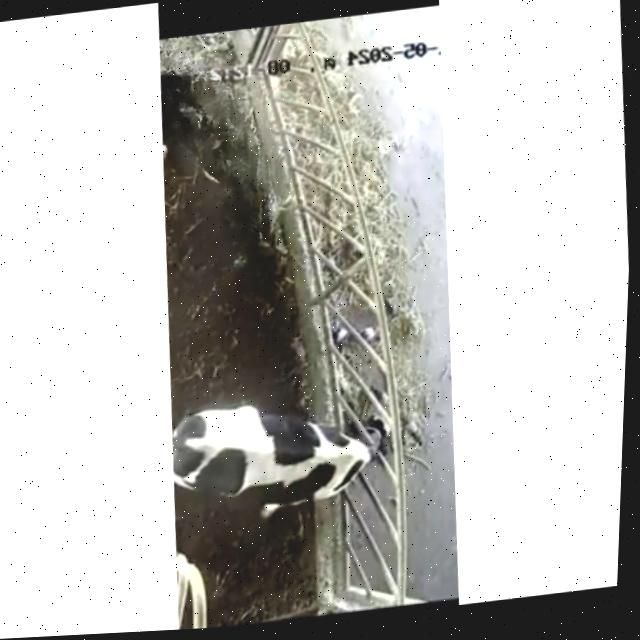eat: (304, 391, 429, 501)
